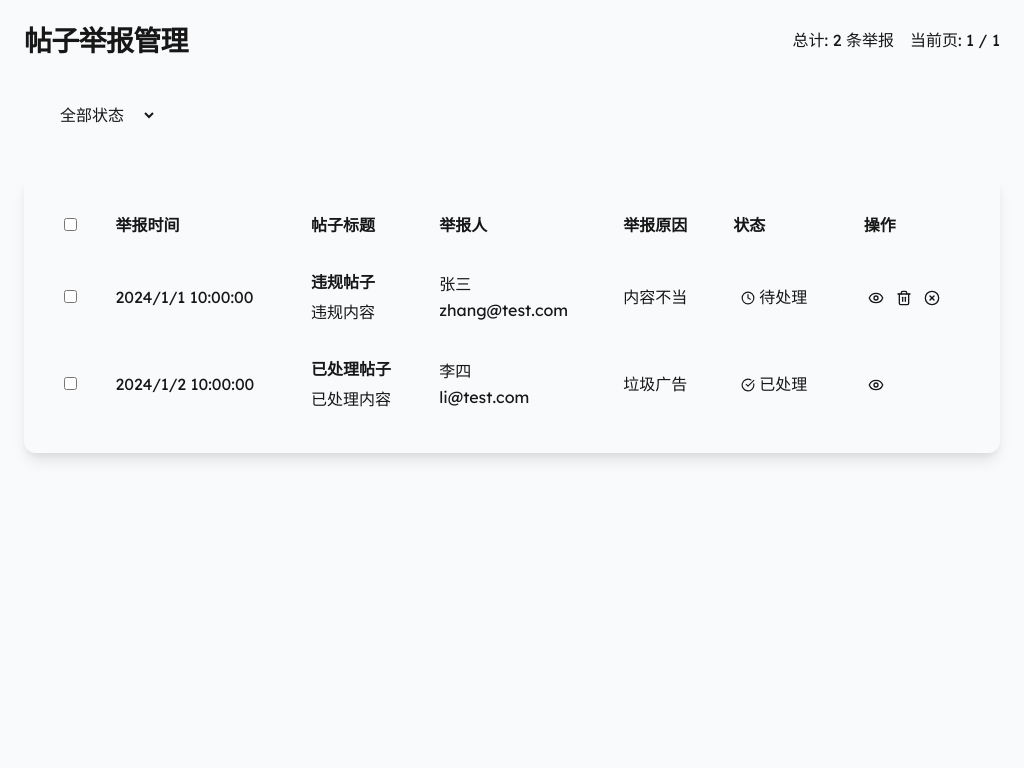
Test: PostReportManagement › closes detail modal
expect the text "违规帖子" is shown: met, box left=311, top=272, right=375, bottom=292
Click the button titled "查看详情" in the row of "2024/1/1 10:00:00".
click(876, 298)  # box left=864, top=286, right=888, bottom=310
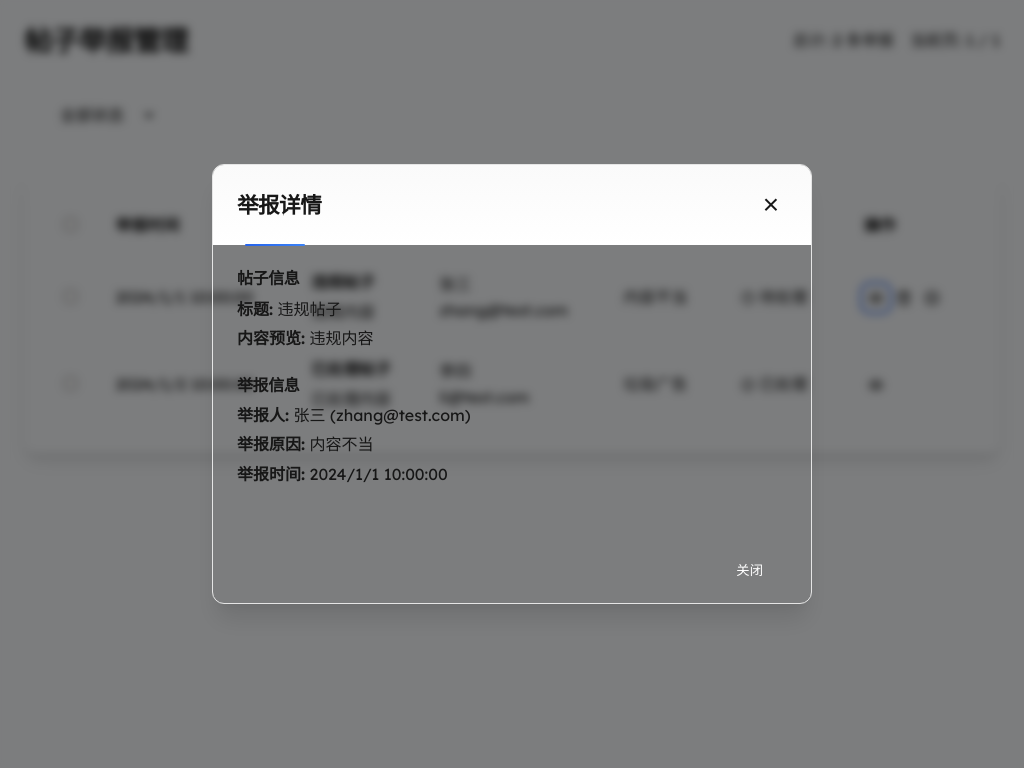
expect the heading "举报详情" is shown: met, box left=237, top=192, right=321, bottom=218
Click the button "关闭".
click(750, 569)  # box left=712, top=552, right=787, bottom=587
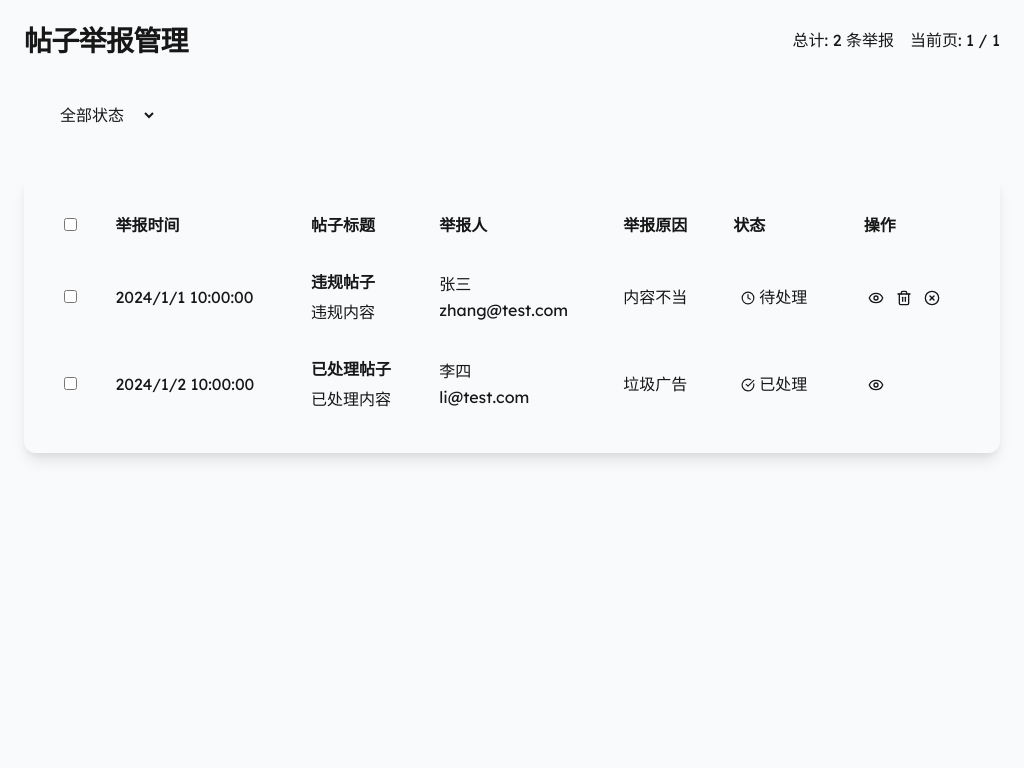
expect the heading "举报详情" is gone: met
